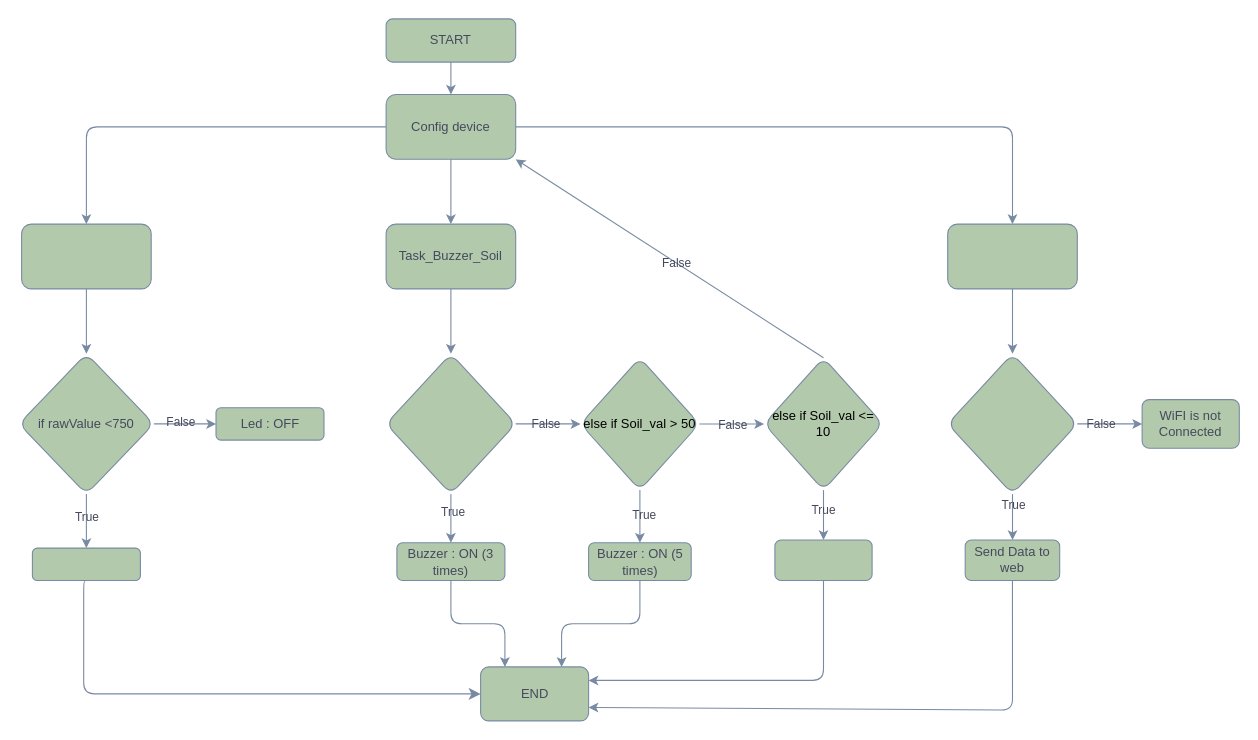
Some shapes in this 1258 by 740 pixel diagram are drawn without their labels. Each missing label, with the centre of its shape:
"Buzzer : OFF" goes at (823,559).
"if Soil_val > 10 && Soil_val<=50" goes at (450,423).
"if WiFI is Connected" goes at (1012,423).
"Led : ON" goes at (85,563).
"Task_LDR_LED" goes at (86,256).
"Task_SendData" goes at (1012,256).
